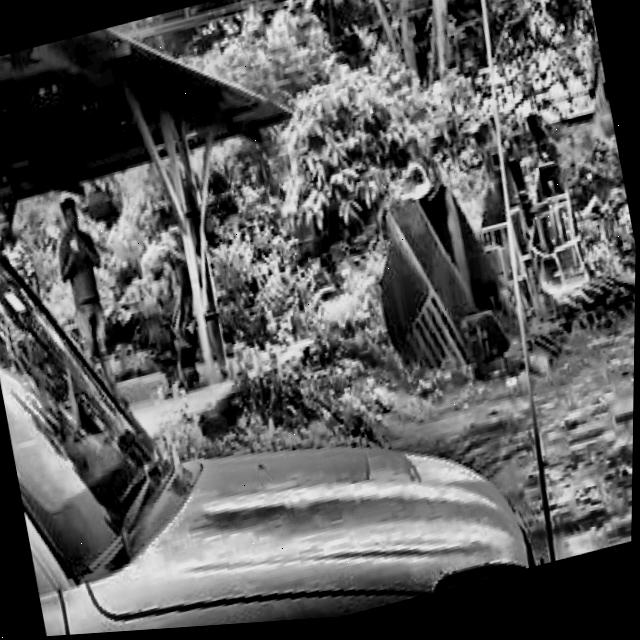light_vehicle: (0, 0, 562, 640)
